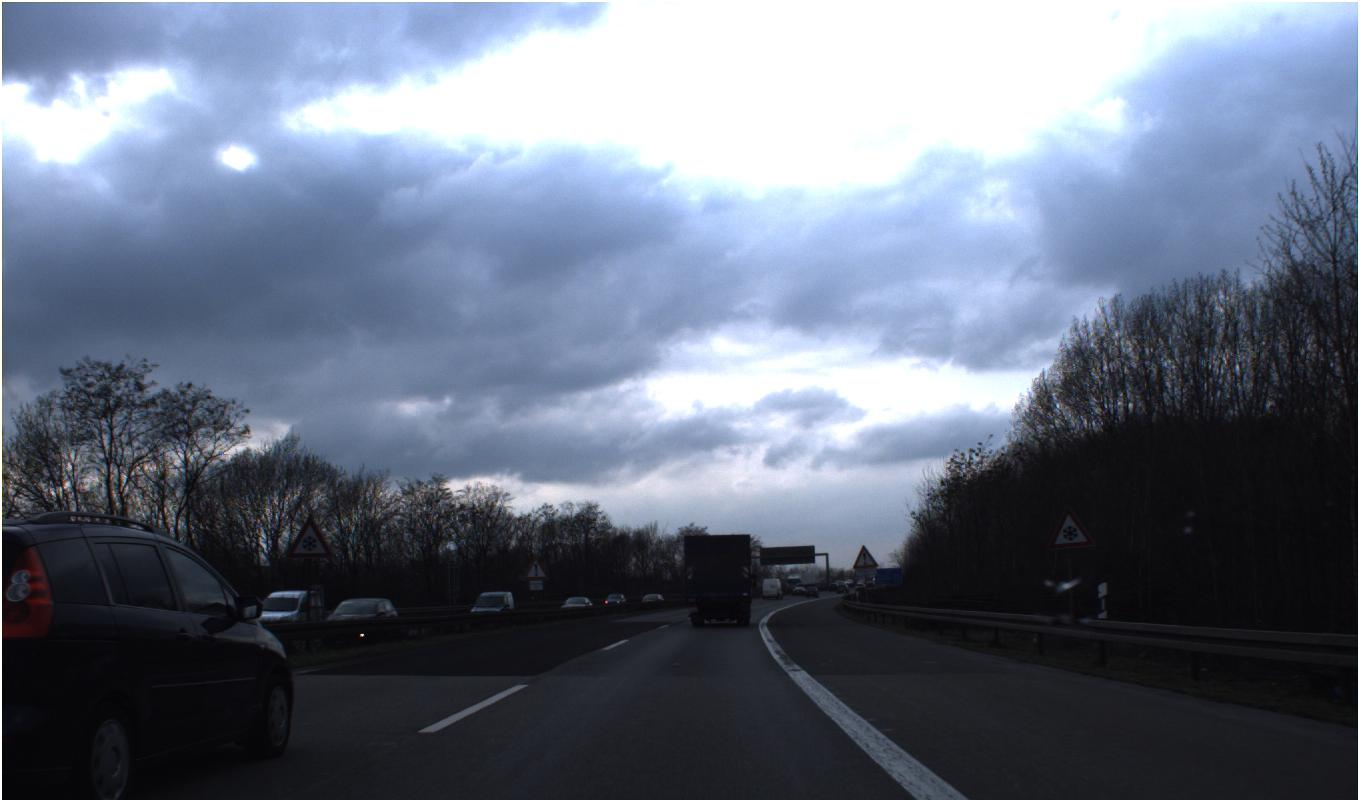danger: (1046, 503, 1097, 551), (284, 514, 333, 559), (520, 554, 551, 581), (852, 544, 879, 570)
